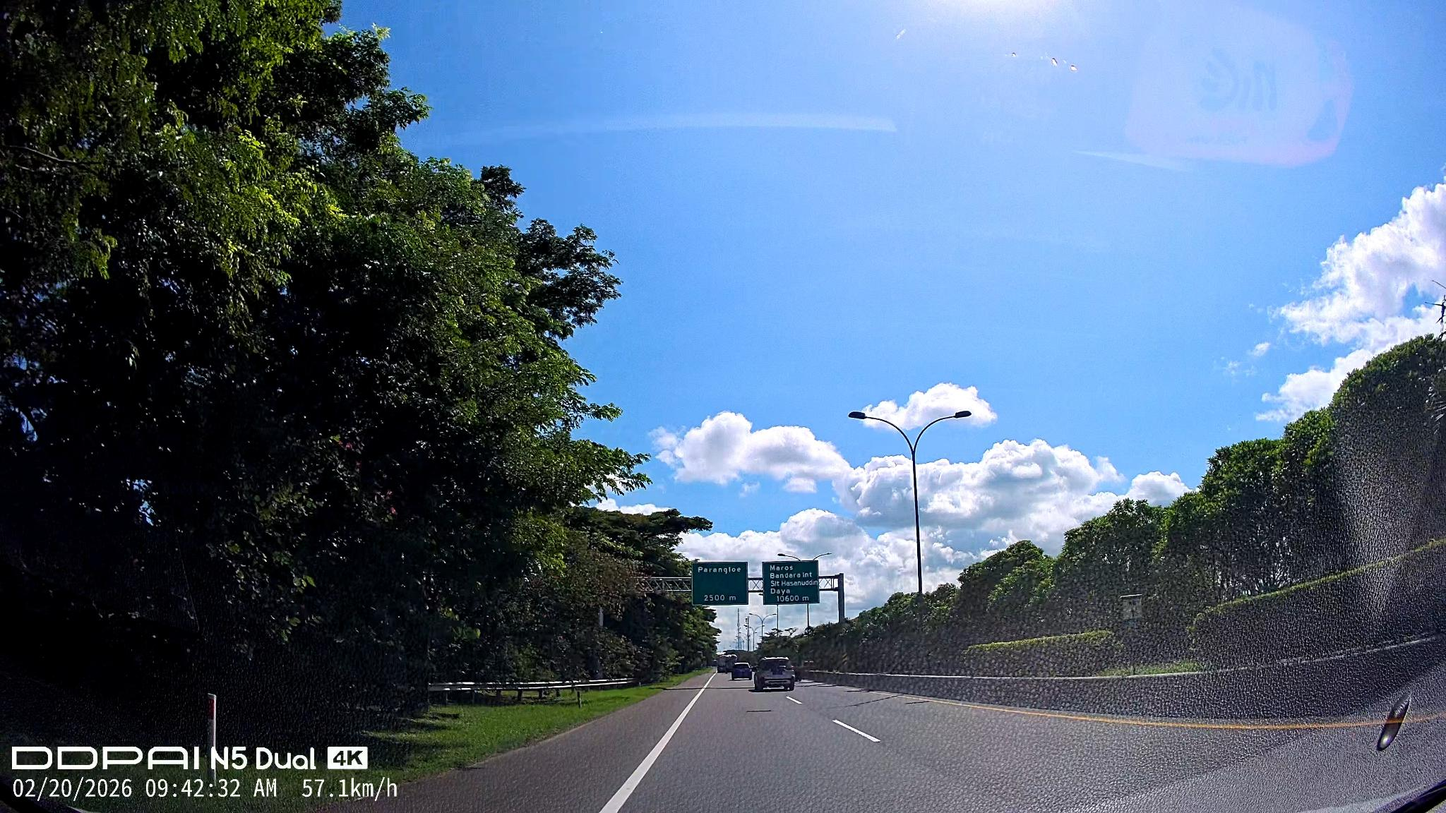rambu_teks: (762, 560, 822, 606), (691, 561, 749, 606)
